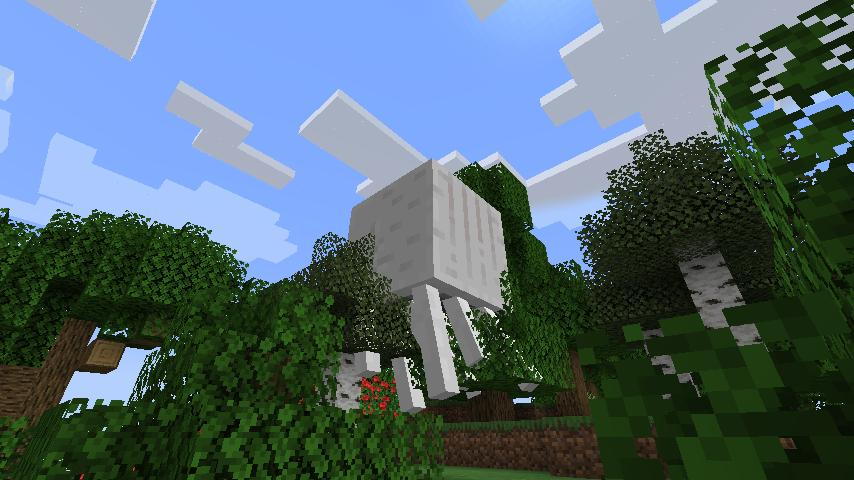ghast: (344, 158, 512, 416)
